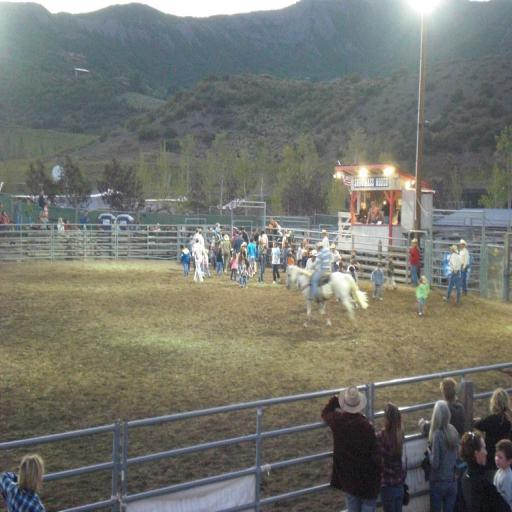horse: (284, 265, 368, 333)
